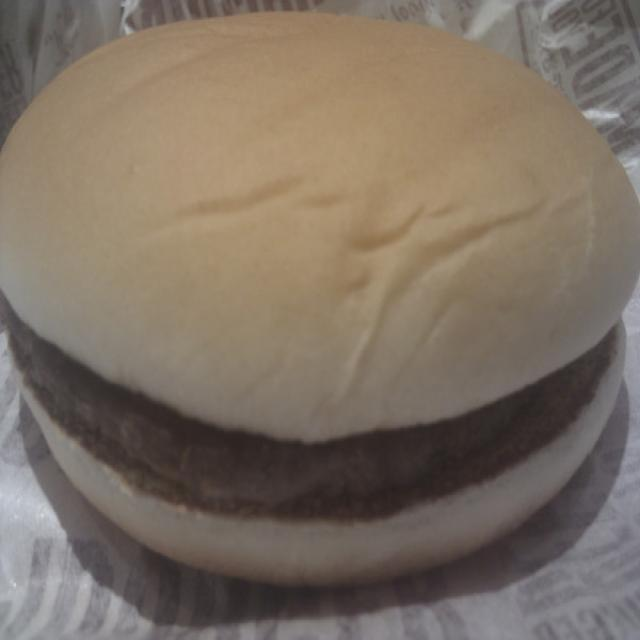Hamburger: (1, 21, 640, 581)
